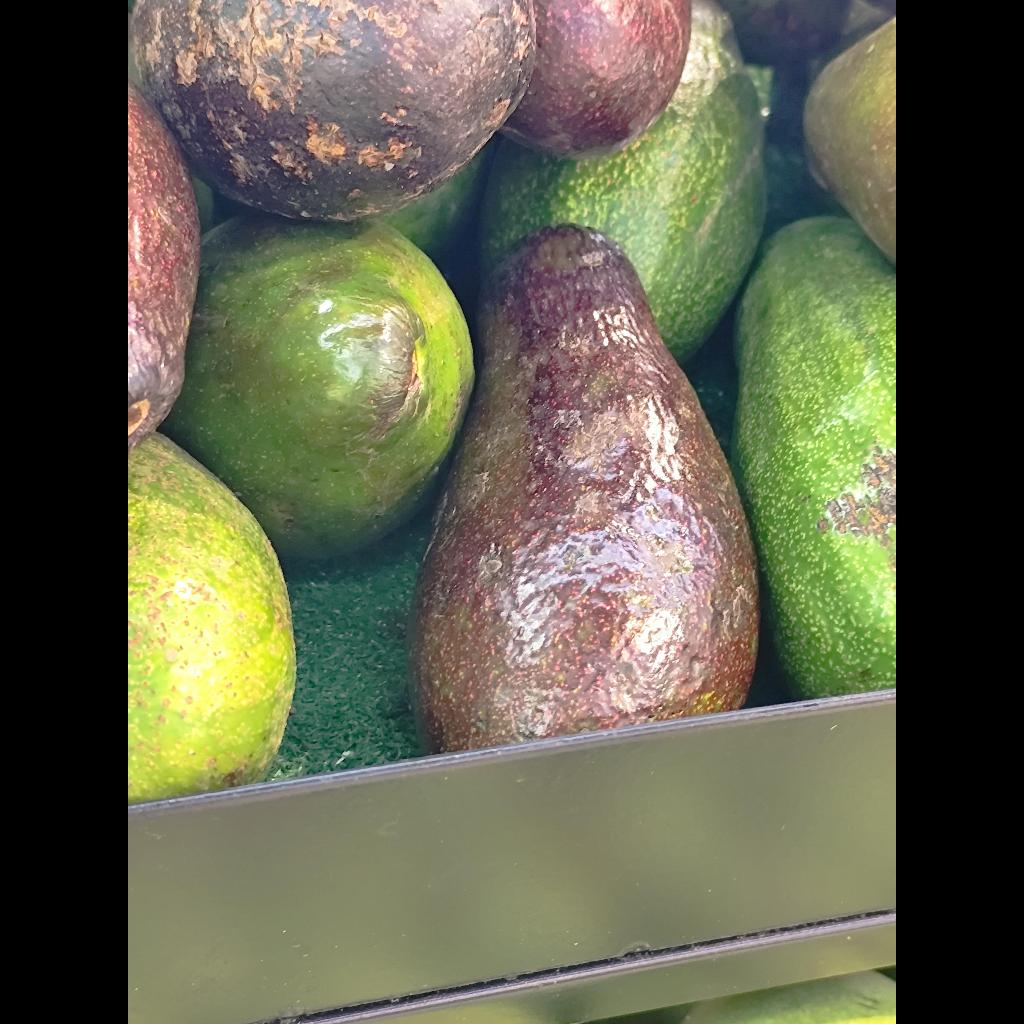anthracnose: (411, 225, 758, 752), (502, 0, 691, 158)
healthy: (162, 217, 473, 556)
scab: (133, 0, 535, 221)
